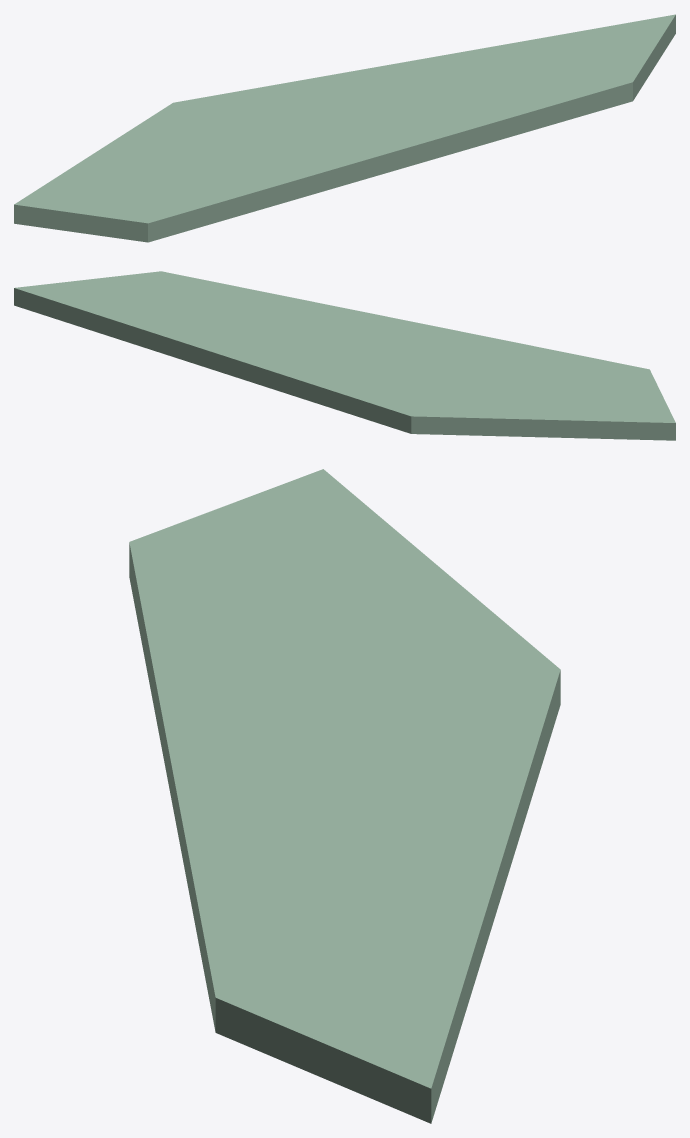
Rendered from I02_Dragonfly_Wing.fbx.
3 views of the same model, one above another, from view 1: azimuth 30°, elevation 25°; view 2: azimuth 150°, elevation 25°; view 3: azimuth 270°, elevation 25° (orthographic). The views are drawn at different scales.
Parts seen in each view (by area): view 1: I02_Dragonfly_Wing; view 2: I02_Dragonfly_Wing; view 3: I02_Dragonfly_Wing.
Boxes of the visible parts, x1,y1,x2,y2 form: I02_Dragonfly_Wing: (14,14,675,242); I02_Dragonfly_Wing: (14,271,675,440); I02_Dragonfly_Wing: (129,469,560,1123).
Size of the model in its own units: 0.34 by 0.009 by 0.1.
1 material, 1 textured.
